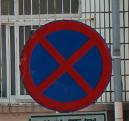No Parking: (23, 18, 113, 111)
